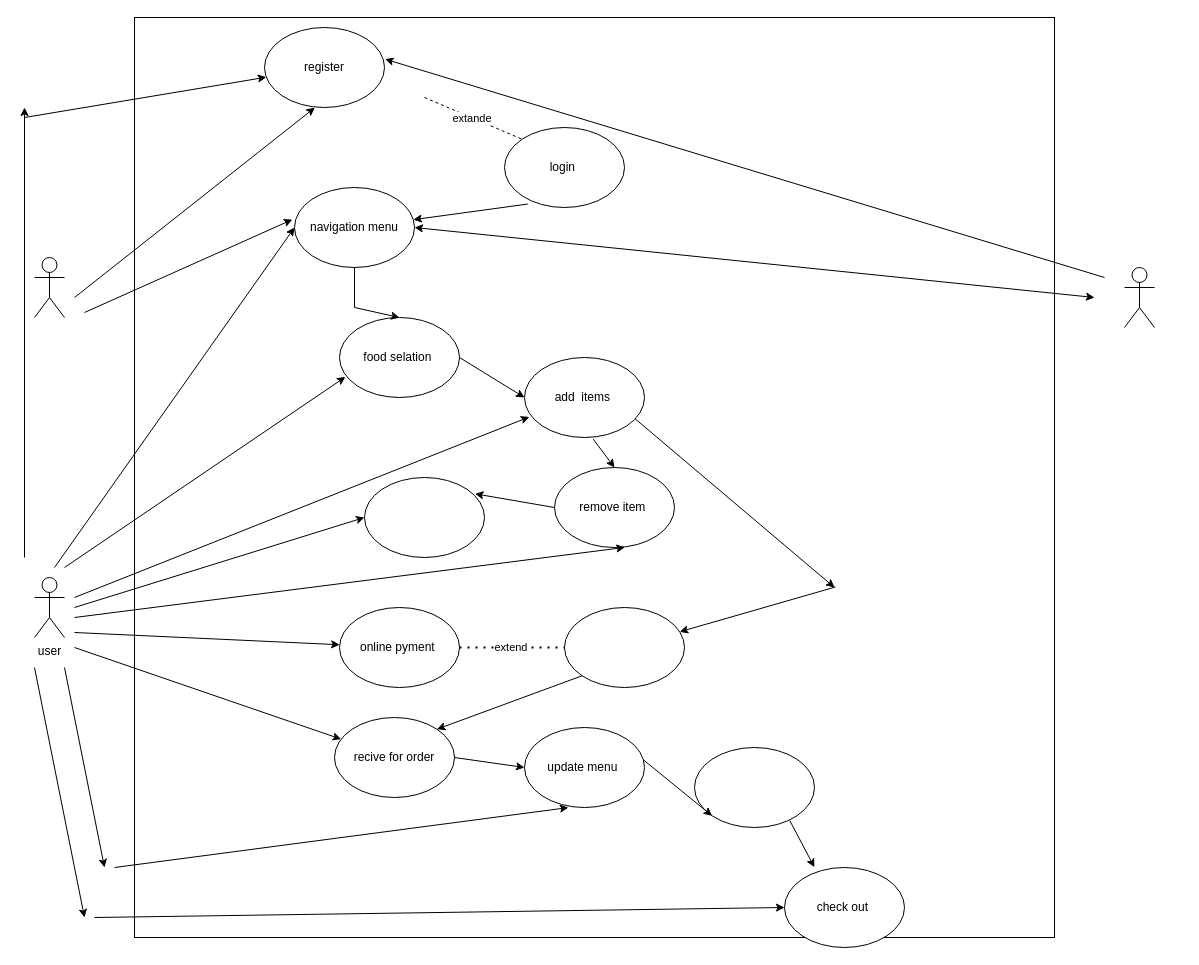
Image size: 1199x965. Some labels were removed from this diagram. Here are the shapes that lost their labels. From the top down, the box of each, then its label:
(34, 256, 64, 318): admin
(1124, 266, 1154, 328): delivery person
(364, 476, 484, 558): remove order
(564, 606, 684, 688): pay to order in cash
(694, 746, 814, 828): recive conformation
